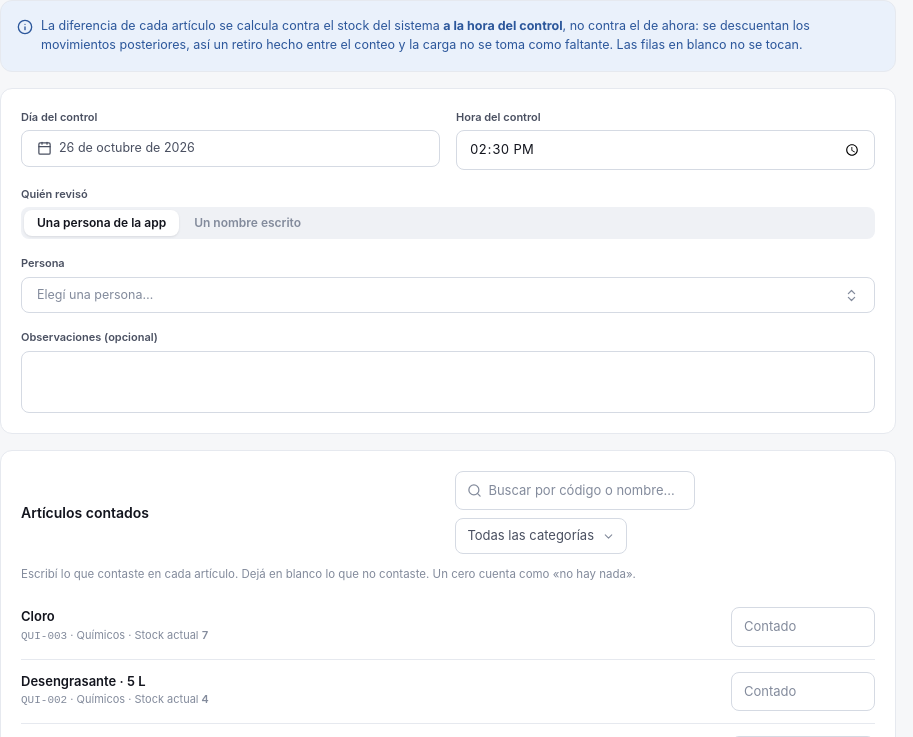
Test: StockCountScreen: «Cargar control» (IS-16, IS-31) › con un control de hace horas avisa cuántos movimientos tuvo cada artículo después
Replace the text in the time field labelled "Hora del control" with "08:00": (666, 150) [456,130,875,170]
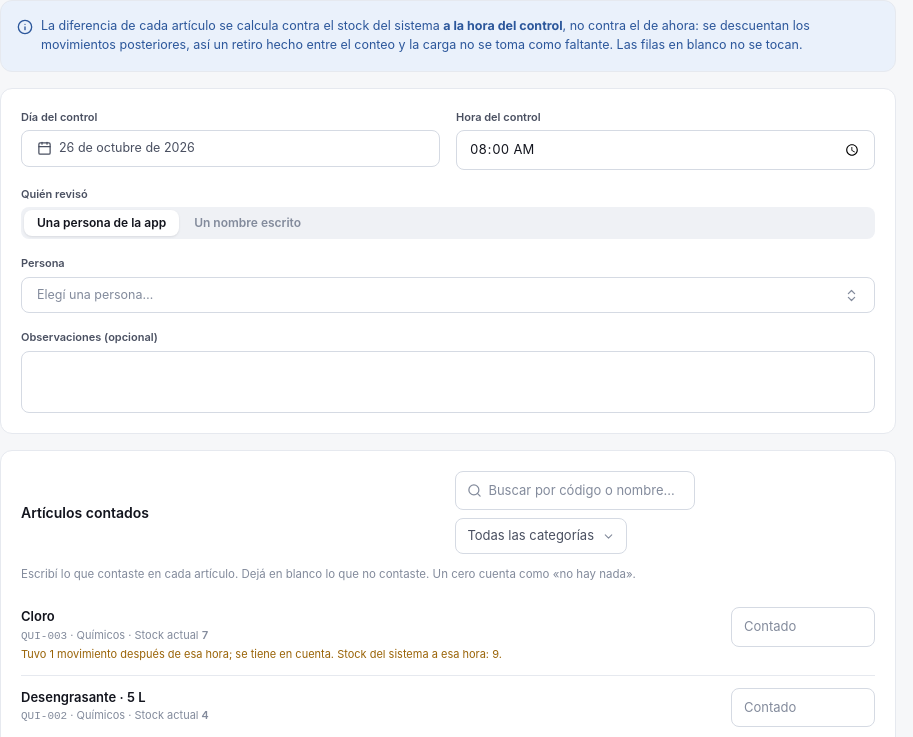
Expected: the text "Tuvo 1 movimiento después de esa hora; se tiene en cuenta." is shown, [21,647,334,661]
Expected: the text "Stock del sistema a esa hora: 9." is shown, [334,647,502,661]
